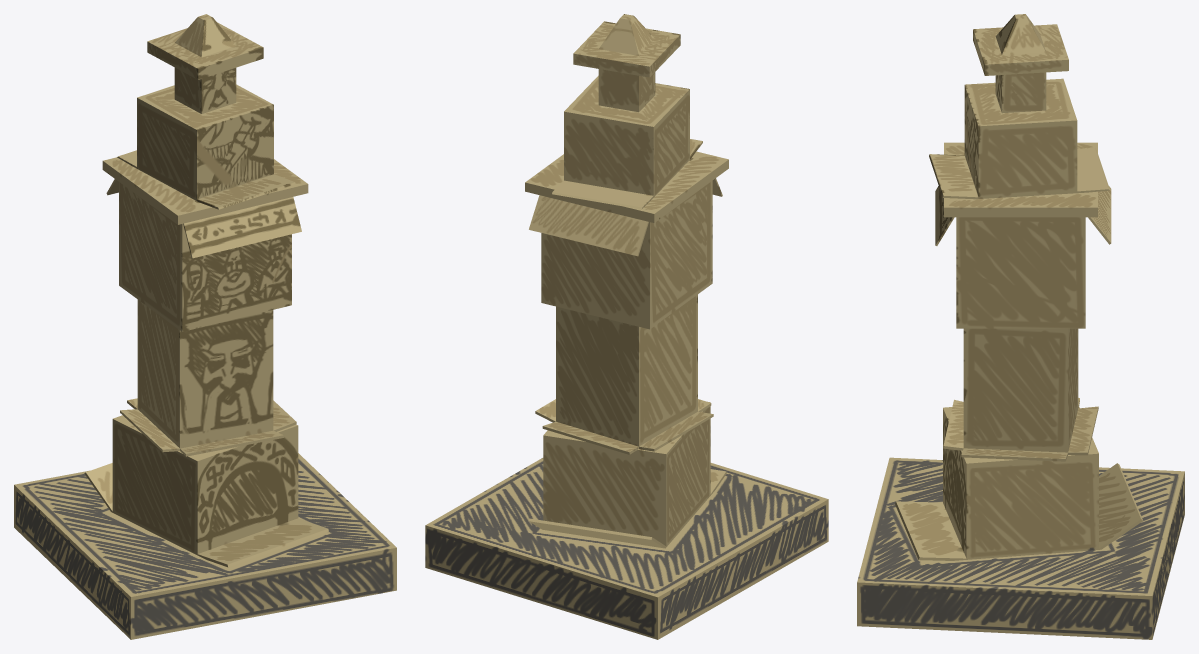
File: idol.glb
3 views of the same model, side by side, from view 1: azimuth 30°, elevation 25°; view 2: azimuth 150°, elevation 25°; view 3: azimuth 270°, elevation 25° (orthographic). The views are drawn at different scales.
Visible parts, largest first — view 1: Cube.003; view 2: Cube.003; view 3: Cube.003.
Part boxes in pixels (x1=…): Cube.003: x1=14, y1=14, x2=396, y2=639; Cube.003: x1=425, y1=14, x2=828, y2=639; Cube.003: x1=857, y1=14, x2=1184, y2=639.
Bounding box in the file's own units: 2.28 × 4.25 × 2.28.
1 material, 1 textured.
